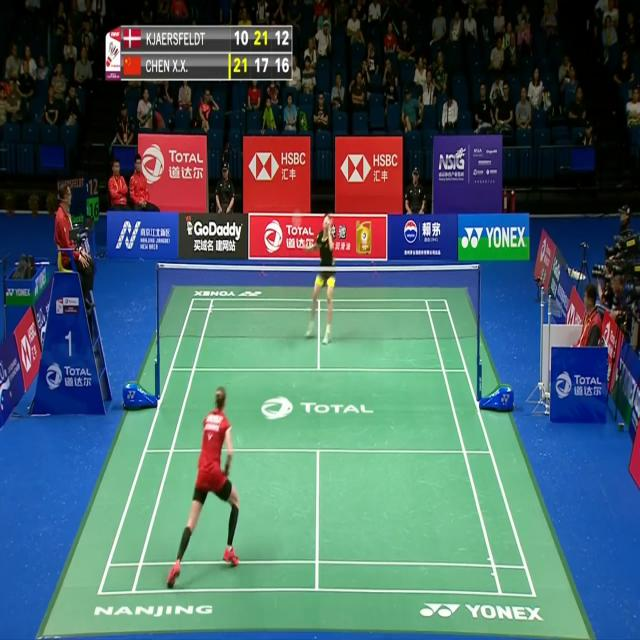Player1: (168, 375, 244, 588)
Player2: (296, 201, 340, 349)
